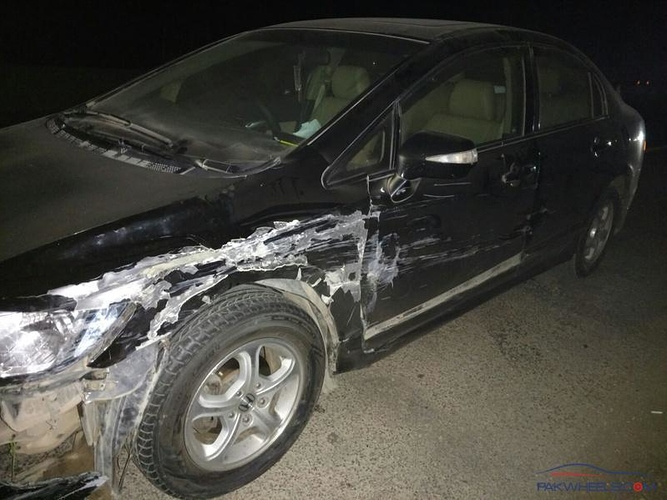doorouter-dent: (366, 133, 530, 347)
fender-dent: (137, 165, 365, 356)
front-bumper-dent: (0, 379, 136, 500)
